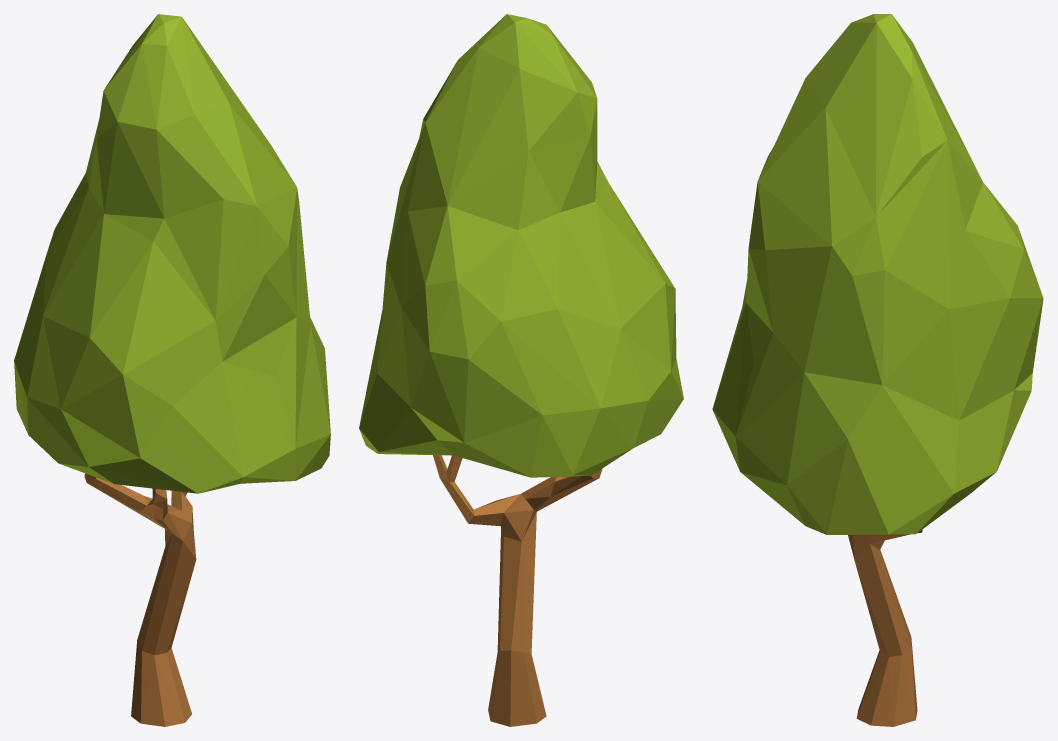
File: tree_03.glb
3 views of the same model, side by side, from view 1: azimuth 30°, elevation 25°; view 2: azimuth 150°, elevation 25°; view 3: azimuth 270°, elevation 25° (orthographic).
Parts seen in each view (by area): view 1: Lowpoly_Tree_03_Material.004_0, Lowpoly_Tree_03_Material_0; view 2: Lowpoly_Tree_03_Material.004_0, Lowpoly_Tree_03_Material_0; view 3: Lowpoly_Tree_03_Material.004_0, Lowpoly_Tree_03_Material_0.
Boxes of the visible parts, bbox=[...] form: Lowpoly_Tree_03_Material.004_0: bbox=[14, 14, 330, 493]; Lowpoly_Tree_03_Material_0: bbox=[84, 473, 196, 726]; Lowpoly_Tree_03_Material.004_0: bbox=[359, 14, 683, 477]; Lowpoly_Tree_03_Material_0: bbox=[433, 455, 602, 726]; Lowpoly_Tree_03_Material.004_0: bbox=[712, 14, 1043, 534]; Lowpoly_Tree_03_Material_0: bbox=[848, 529, 922, 726].
Size of the model in its own units: 0.4793 by 1.13 by 0.4832.
